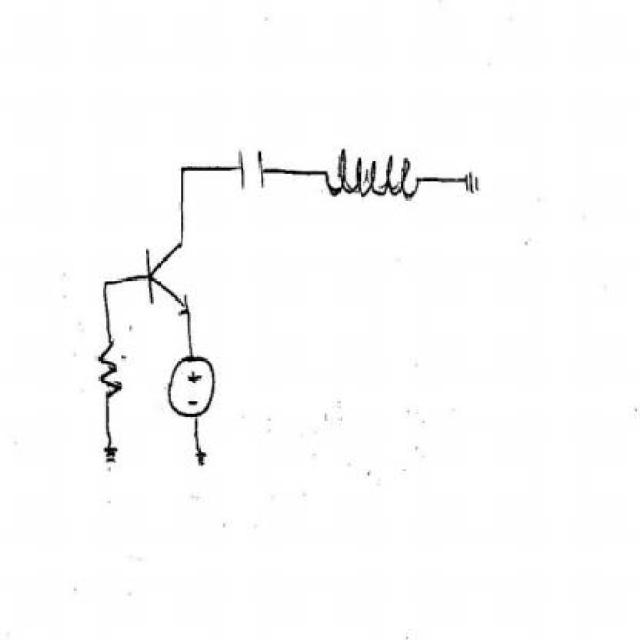capacitor: (232, 146, 270, 191)
ground: (458, 162, 489, 207), (96, 438, 124, 478), (193, 446, 217, 469)
inductor: (325, 144, 423, 204)
resistor: (91, 339, 126, 401)
transistor: (138, 237, 205, 318)
voltage_source: (165, 351, 219, 425)
